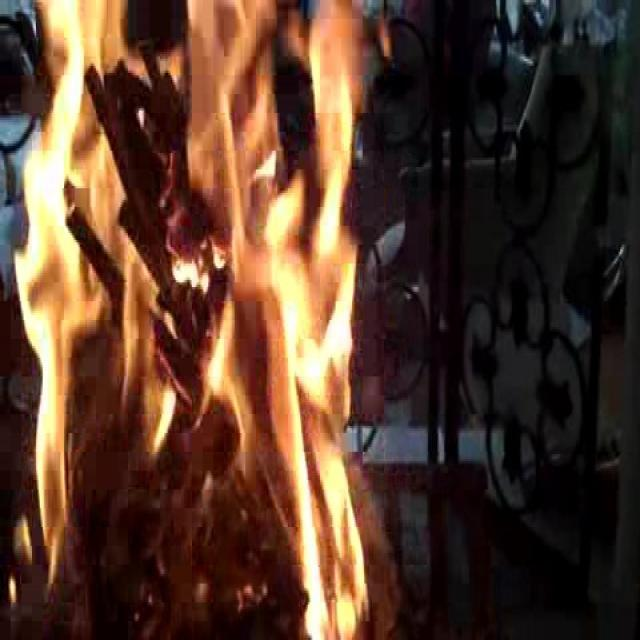Fire: (11, 0, 398, 614)
